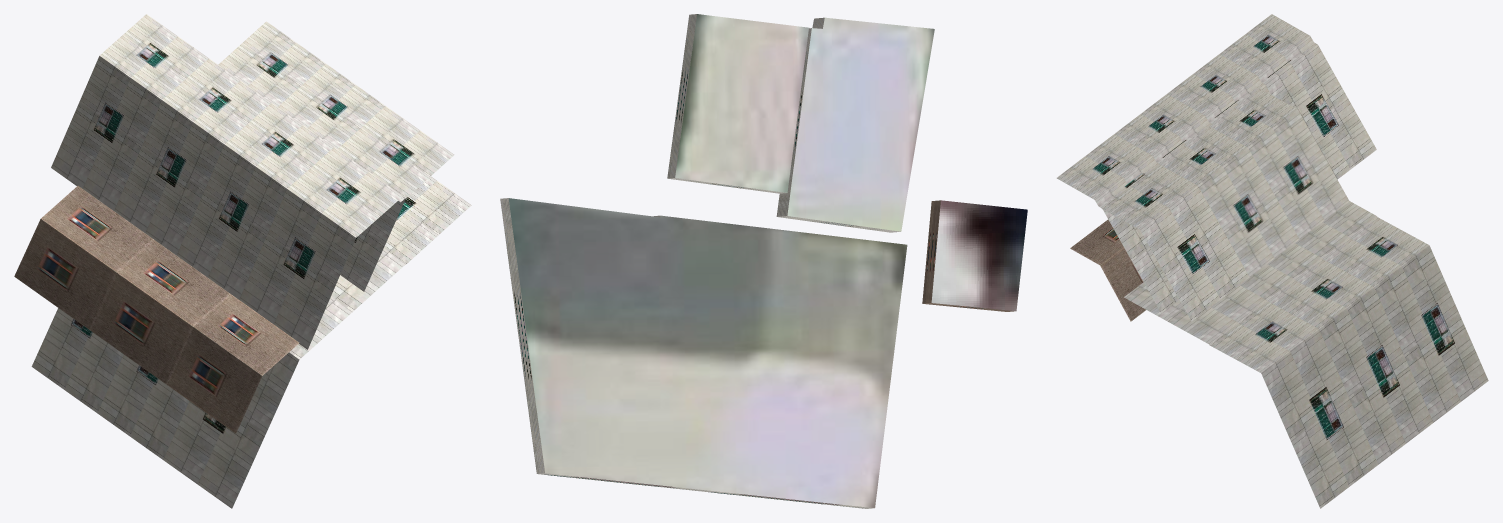
The picture shows the model from 3 angles, left to right: view 1: azimuth 30°, elevation 25°; view 2: azimuth 150°, elevation 25°; view 3: azimuth 270°, elevation 25°; orthographic projection. The views are drawn at different scales.
Size of the model in its own units: 19.47 by 19.22 by 18.94.
Materials: 12 (12 with a texture image).
